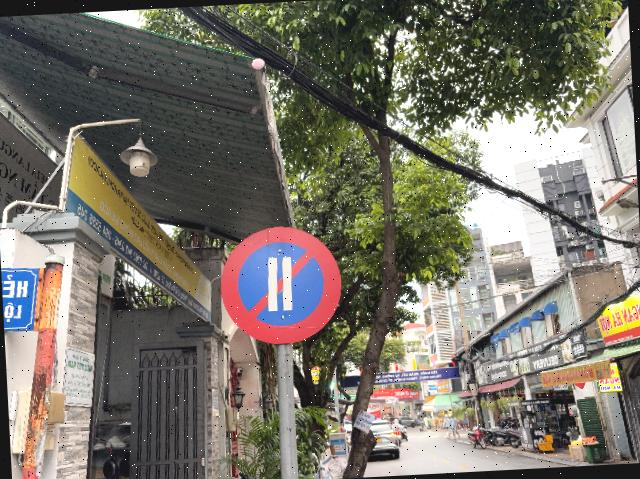cam-do-xe-ngay-chan: (218, 221, 346, 349)
